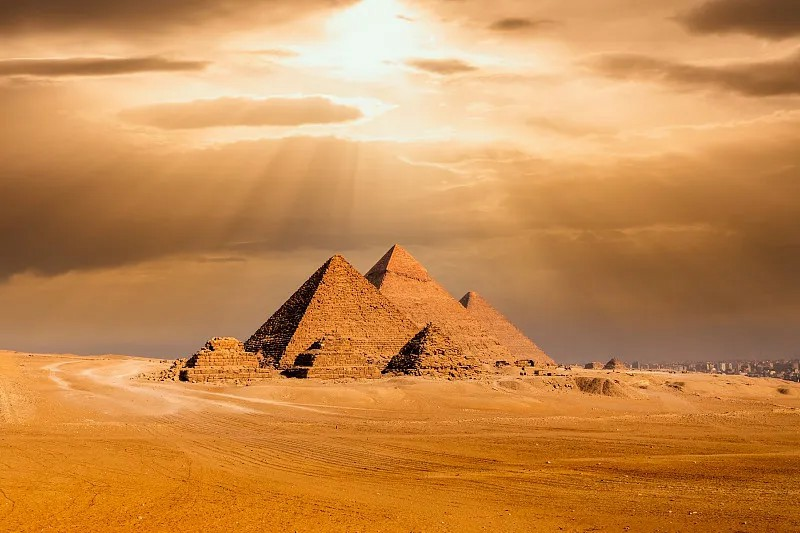Pyramid: (364, 245, 528, 372), (245, 255, 421, 369), (460, 292, 560, 368), (281, 331, 388, 378), (384, 323, 481, 370), (173, 337, 274, 381)
